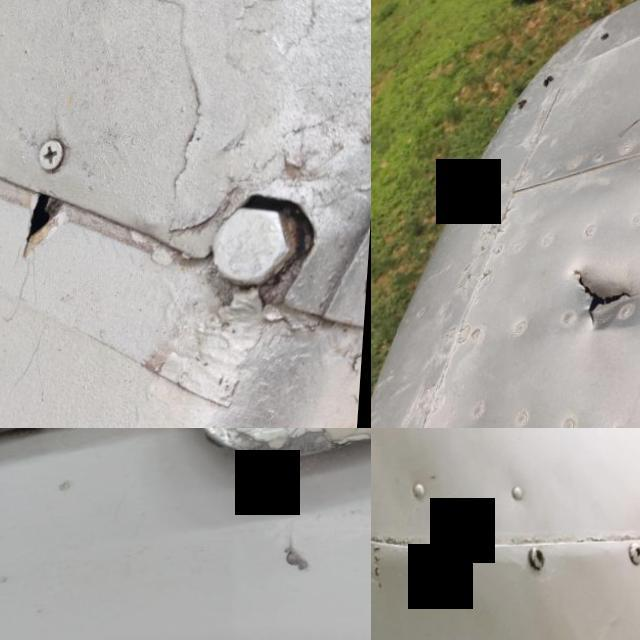Crack: (124, 428, 371, 498), (0, 177, 99, 291), (567, 260, 640, 343), (256, 531, 344, 579)
